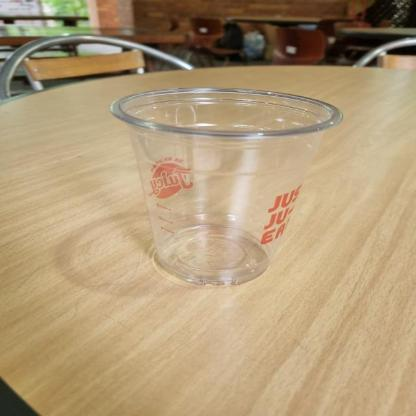Plastic Cup: (104, 81, 350, 292)
